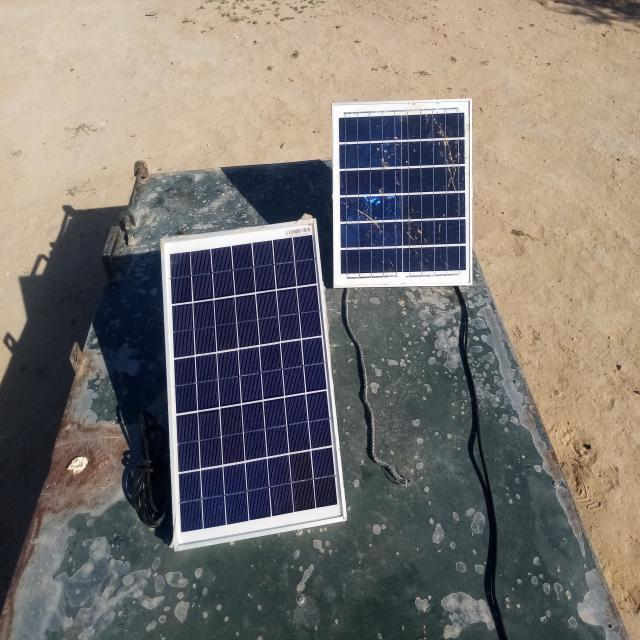faulty: (332, 98, 473, 289)
no faulty: (161, 219, 347, 550)
